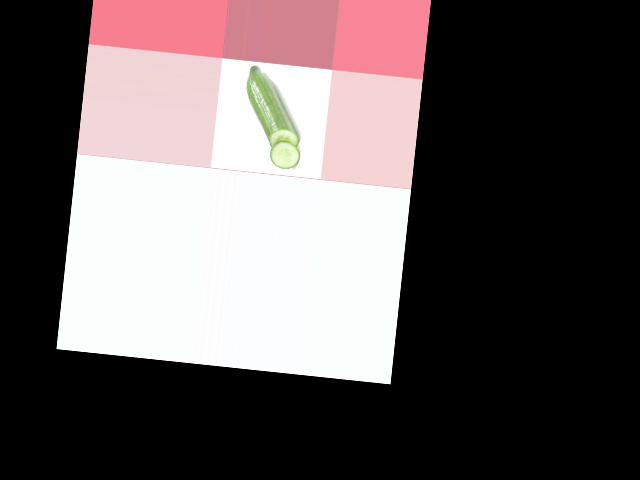cucumber: (240, 65, 306, 151)
